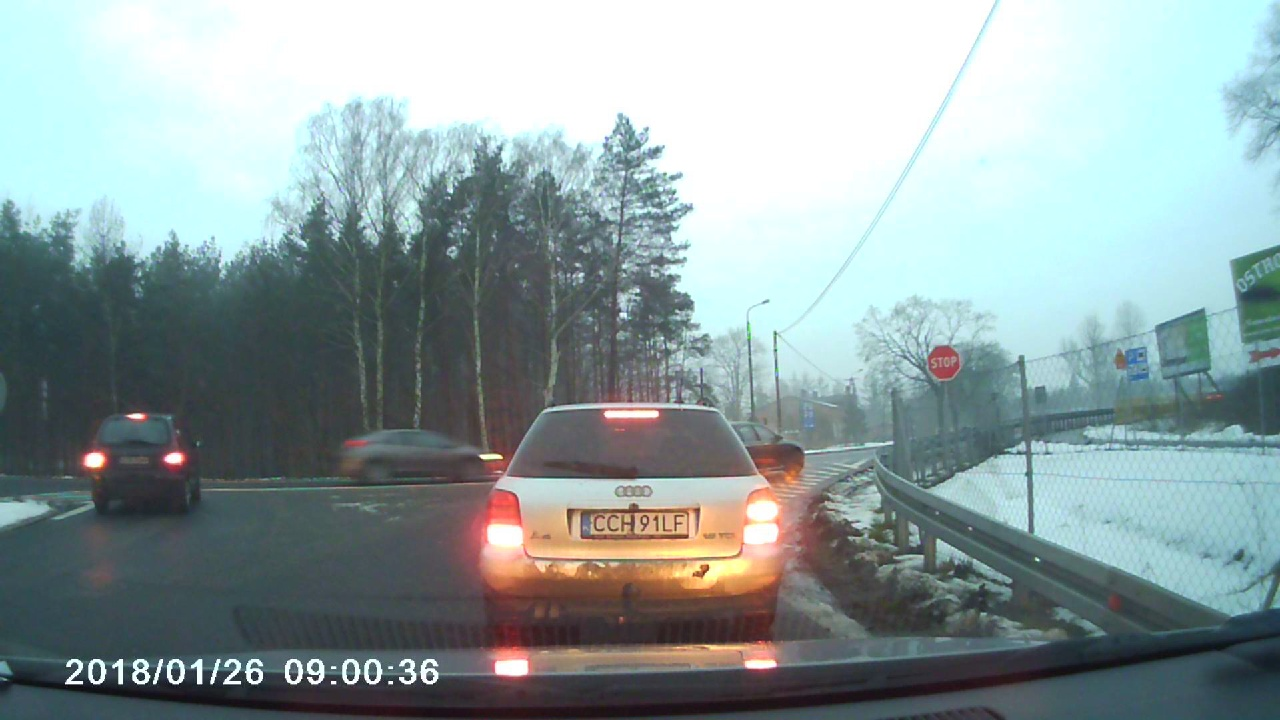B20: (918, 344, 968, 381)
